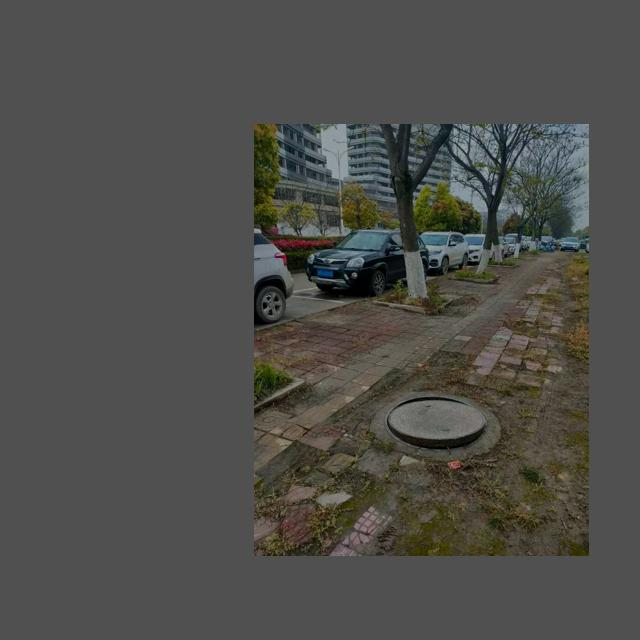uncovered: (381, 391, 491, 449)
